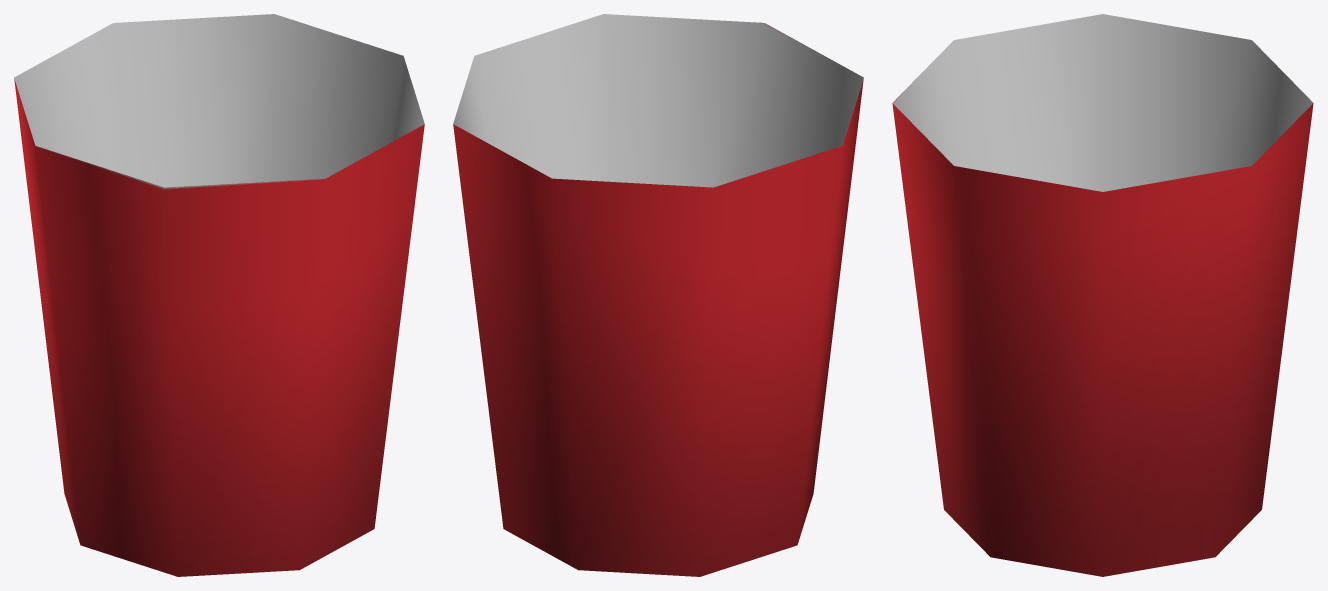
File: plastic_cup.fbx
The picture shows the model from 3 angles, left to right: view 1: azimuth 30°, elevation 25°; view 2: azimuth 150°, elevation 25°; view 3: azimuth 270°, elevation 25°; orthographic projection.
Parts seen in each view (by area): view 1: plastic_cup; view 2: plastic_cup; view 3: plastic_cup.
Part boxes in pixels (x1,y1,x2,y2): plastic_cup: (14, 14, 424, 576); plastic_cup: (453, 14, 863, 576); plastic_cup: (892, 14, 1313, 576).
Bounding box in the file's own units: 0.4761 × 0.5073 × 0.4761.
Materials: 1 (1 with a texture image).
